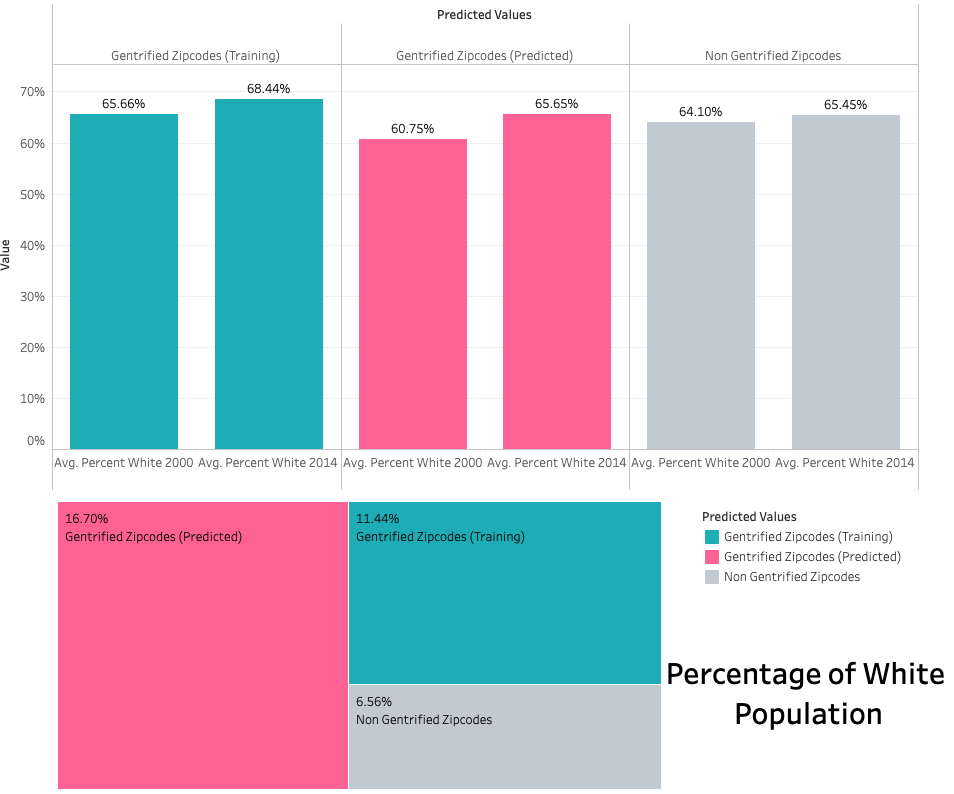

This screenshot's page, from the dashboard's own definition file:
{"tool":"tableau","page":{"name":"% White Pop","canvas":[1000,1000],"units":"permille","ordinal":0},"visuals":[{"type":"worksheet","title":"White %","mark":"Automatic","cols":["Calculation_1587730022345760768"],"box":[5.3,18.6,980,597.7]},{"type":"worksheet","title":"% Change White","mark":"Automatic","box":[73.7,624.4,644.2,366.3]},{"type":"legend","title":"White %","param":"[federated.19ae5670mp3f5q13hyhu20nwgh4b].[none:Calculation_1587730022345760768:n","box":[756.8,638.4,240,98.8]}]}

Visuals, with their boxes on the dashboard's canvas, which has no fixed pixel size, in thousandths of its width and height (x1, y1, x2, y2). These are canvas units, not pixel positions in the 954x794 screenshot, which may show the page scaled, cropped or inside an application window:
"White %" worksheet: 5 19 985 616
"% Change White" worksheet: 74 624 718 991
"White %" legend: 757 638 997 737
